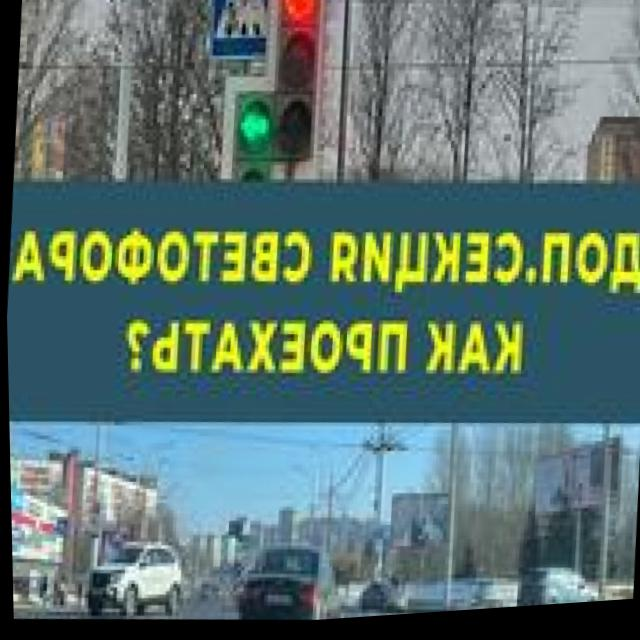red_light: (265, 0, 354, 47)
